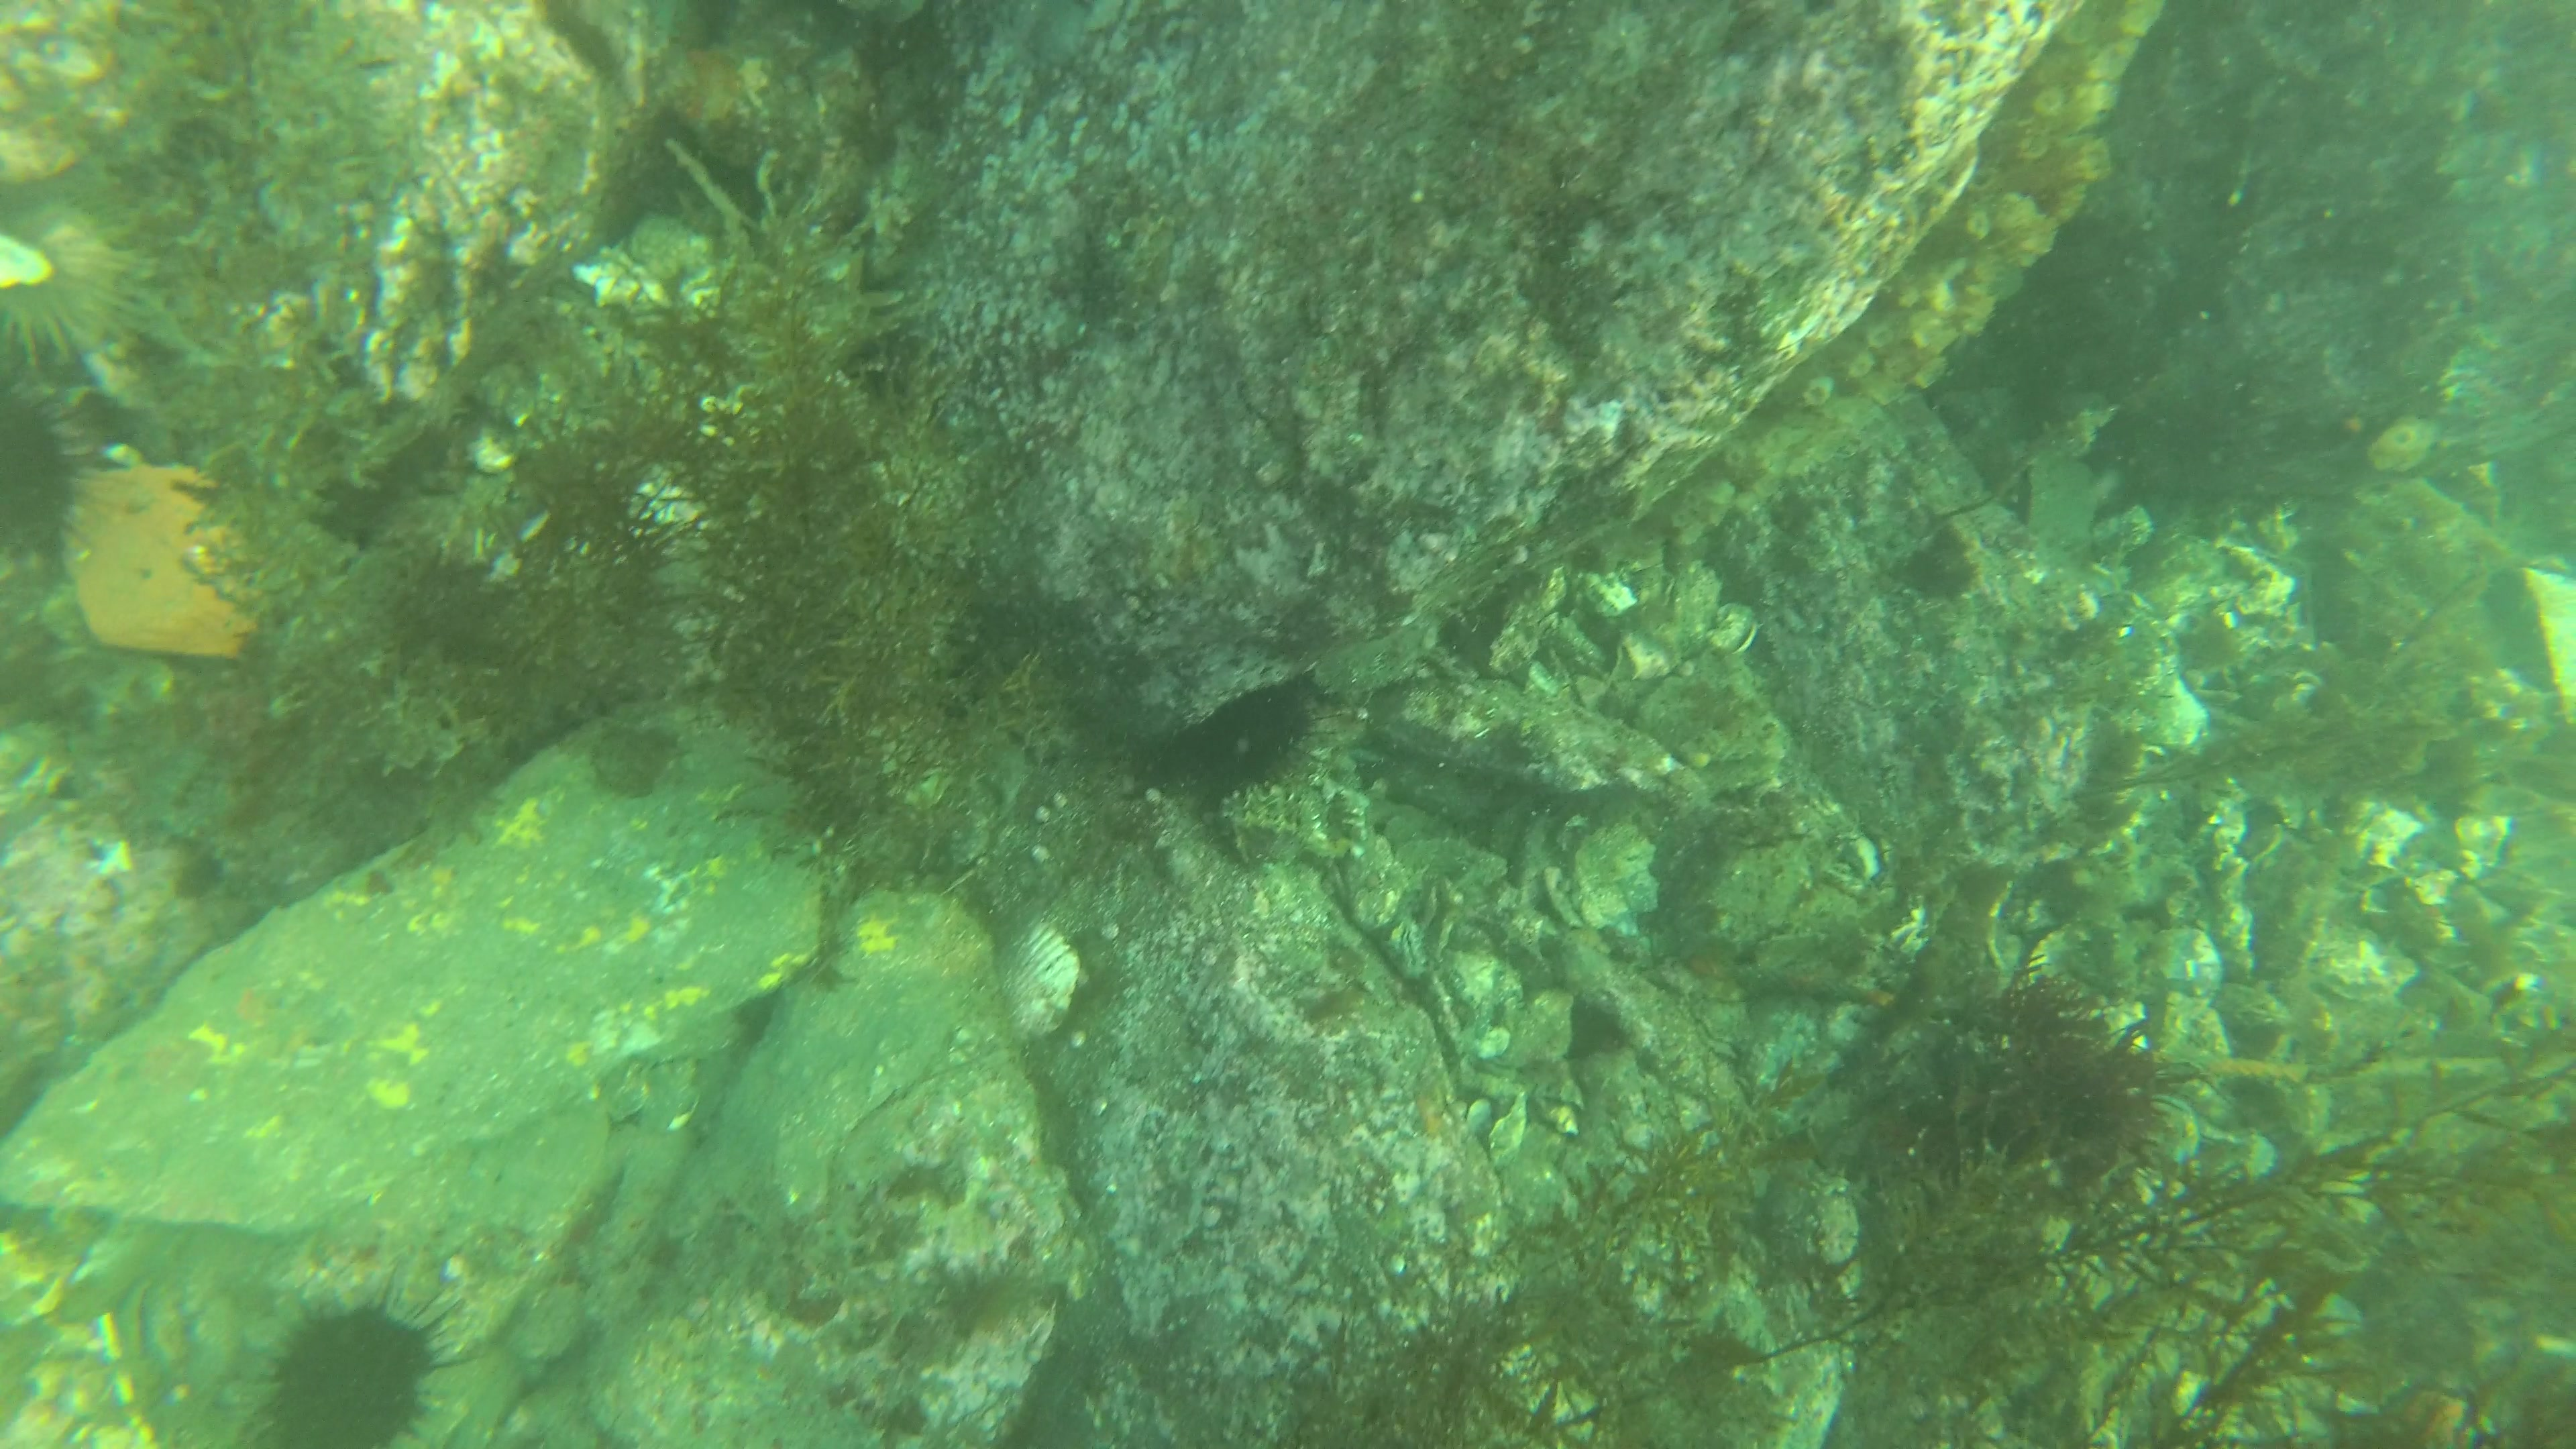echinus: (253, 1292, 444, 1449), (1192, 681, 1315, 786)
scallop: (984, 918, 1088, 1049)
